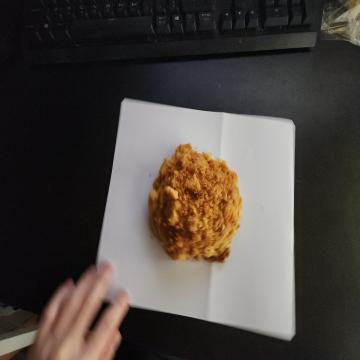soboru_bread: (146, 142, 242, 271)
